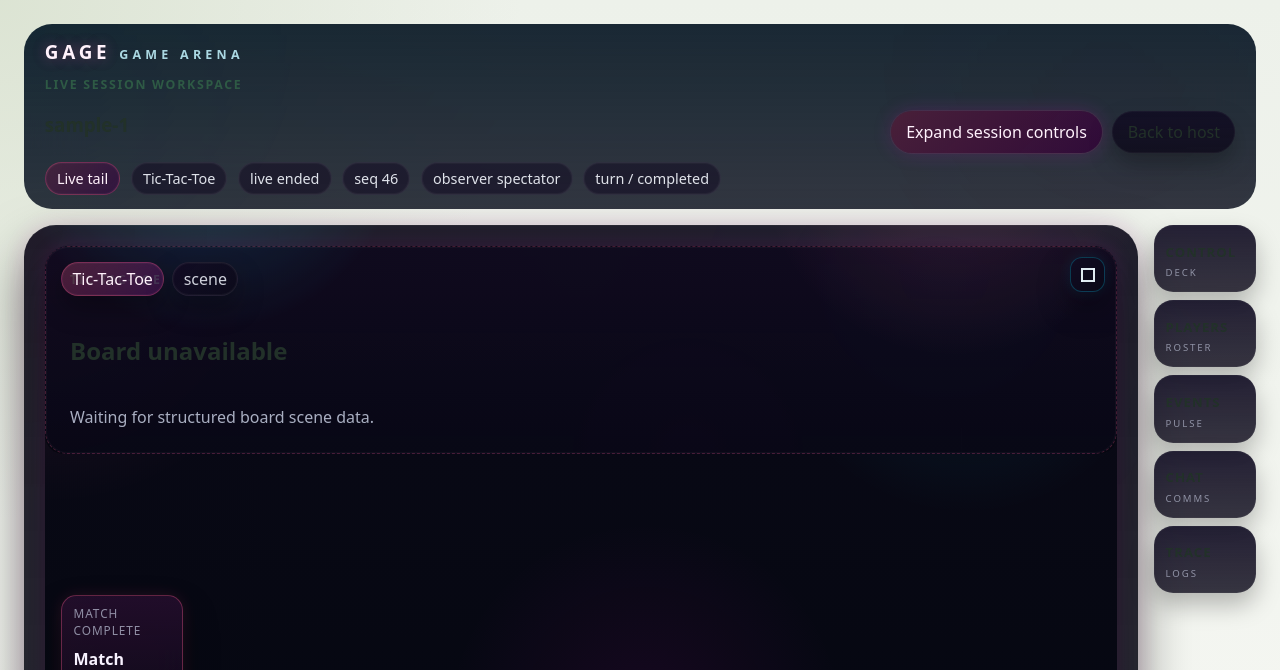
Test: SessionPage › shows Finish after a post-live replay interaction and routes the finish command through the store
The image size is (1280, 670).
Click the button "Expand session controls".
click(996, 132)  # box [891,111,1102,153]
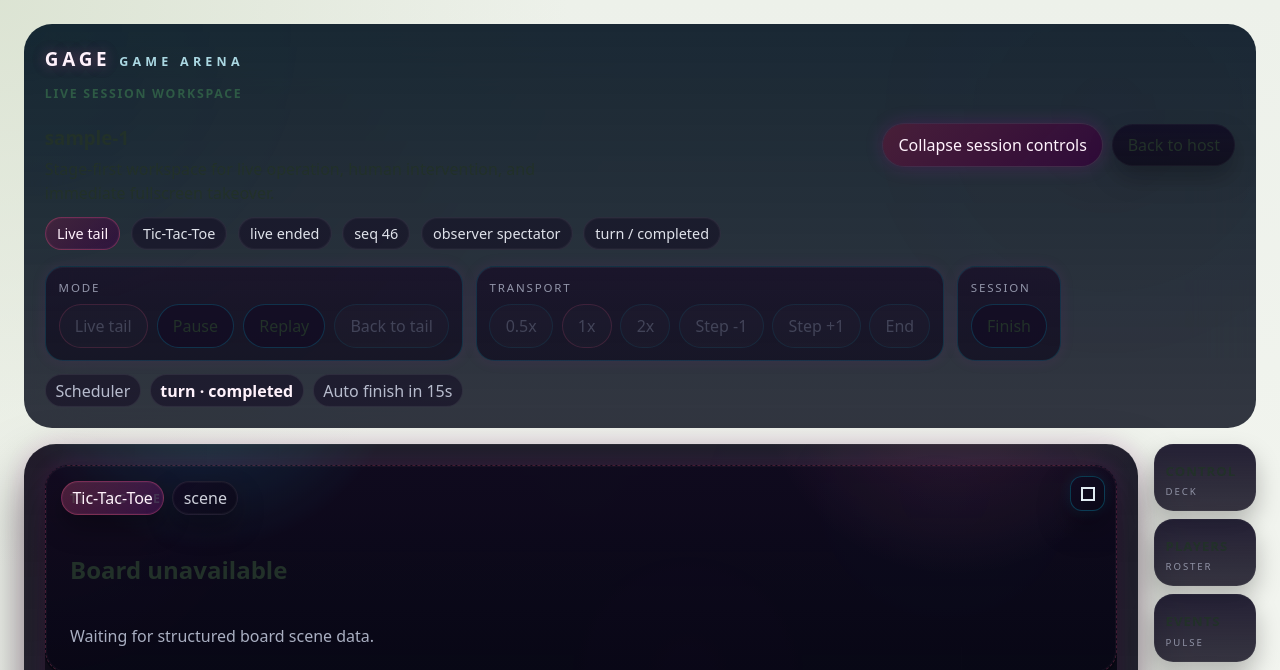
Click the button "Replay".
click(284, 326)  # box [243,304,326,348]
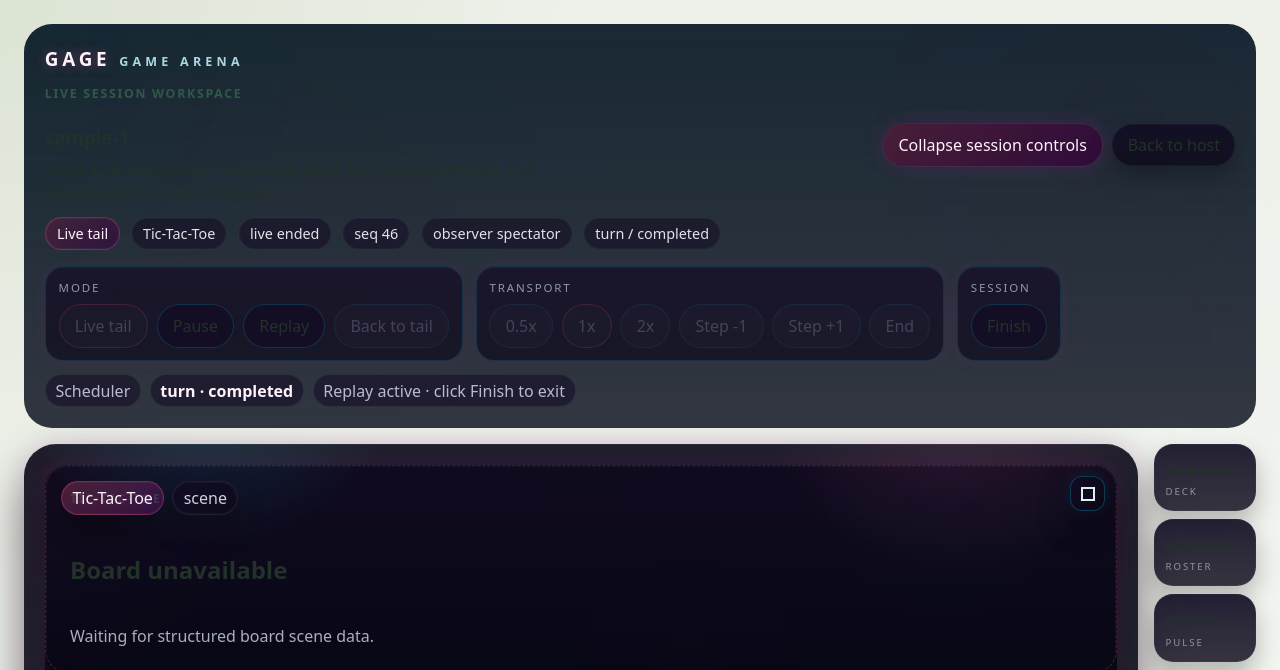
Result: the button "Finish" is shown
Click the button "Finish".
click(1009, 326)  # box [971,304,1047,348]
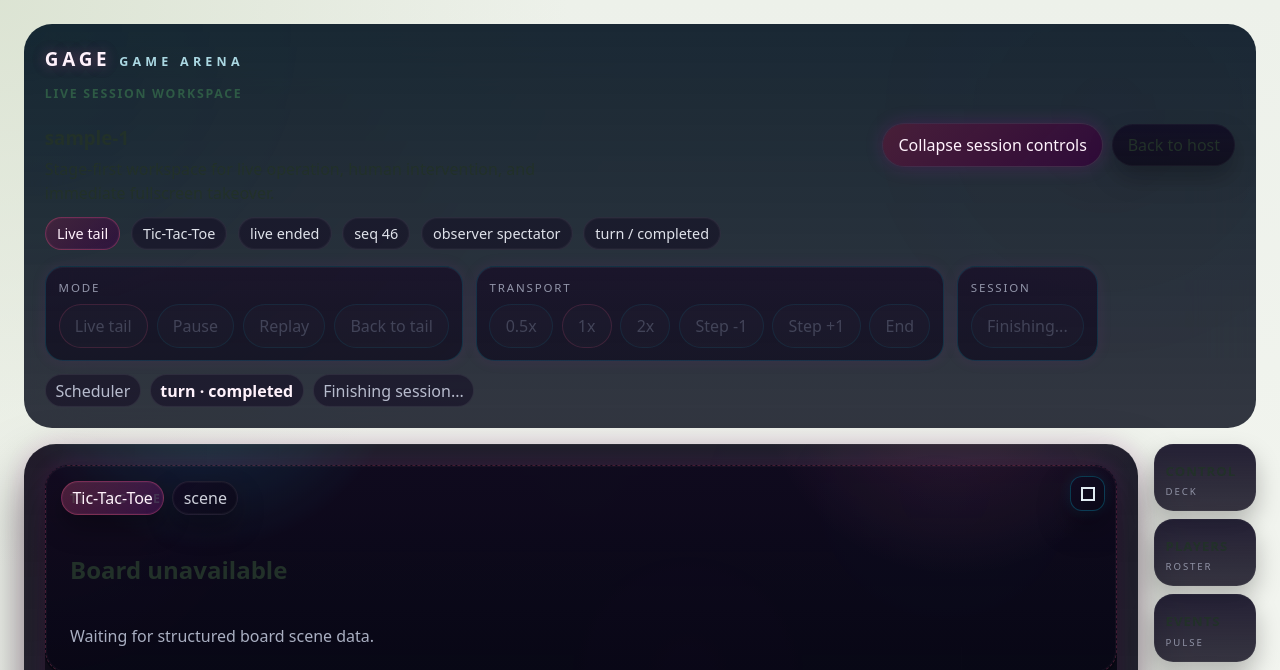
Result: the button "Finishing..." is disabled at [971,304,1084,348]
Result: the text "Finishing session..." is shown at [313,374,474,407]
